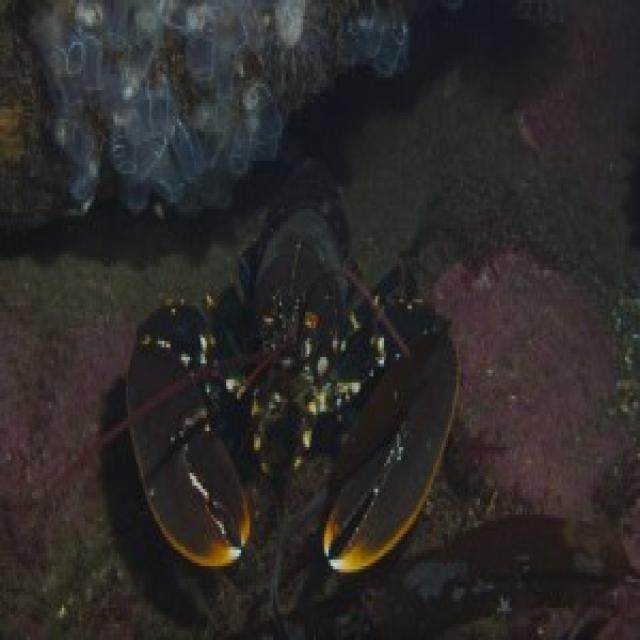lobsters: (53, 87, 528, 611)
